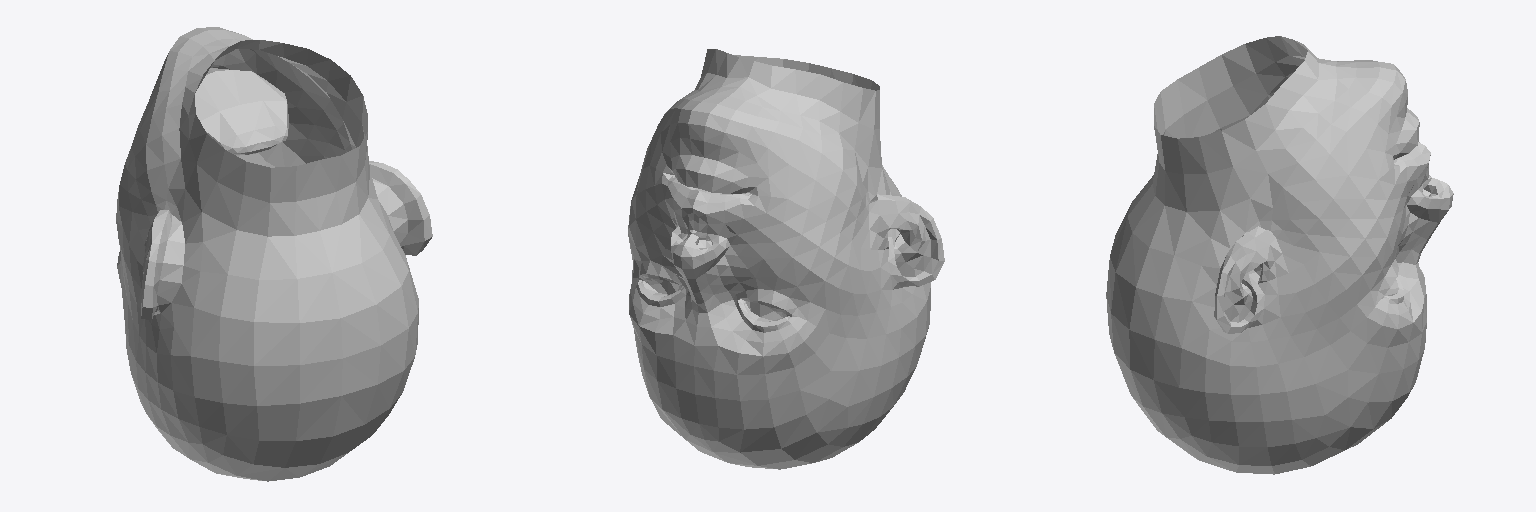
File: head_ping2.obj
3 views of the same model, side by side, from view 1: azimuth 30°, elevation 25°; view 2: azimuth 150°, elevation 25°; view 3: azimuth 270°, elevation 25° (orthographic).
Parts seen in each view (by area): view 1: occluder_Group60300; view 2: occluder_Group60300; view 3: occluder_Group60300.
Part boxes in pixels (x1,y1,x2,y2): occluder_Group60300: (116, 27, 432, 481); occluder_Group60300: (628, 49, 944, 469); occluder_Group60300: (1106, 36, 1453, 474).
Bounding box in the file's own units: 203 × 274 × 210.